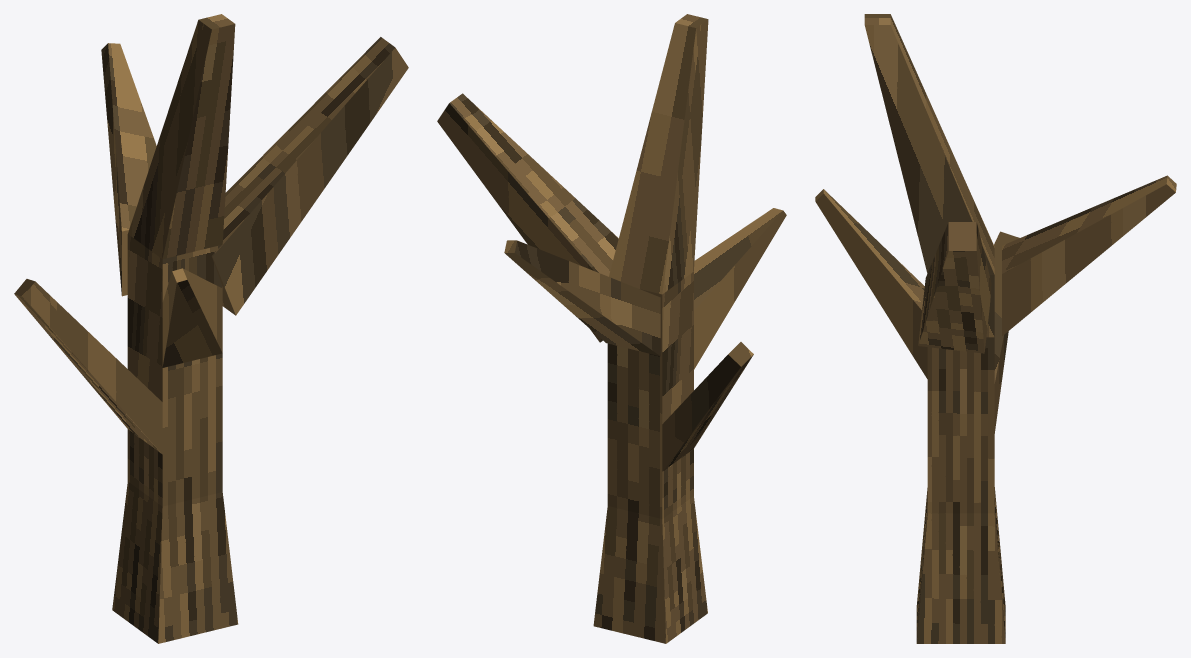
The model's file is oaksmalltree.fbx.
3 renders of one model, left to right at view 1: azimuth 30°, elevation 25°; view 2: azimuth 150°, elevation 25°; view 3: azimuth 270°, elevation 25°, orthographic. The views are drawn at different scales.
Parts seen in each view (by area): view 1: Cube; view 2: Cube; view 3: Cube.
Boxes of the visible parts, <box> form: Cube: <box>14,14,408,643</box>; Cube: <box>437,14,786,643</box>; Cube: <box>815,14,1176,643</box>.
Size of the model in its own units: 126 by 210 by 114.
